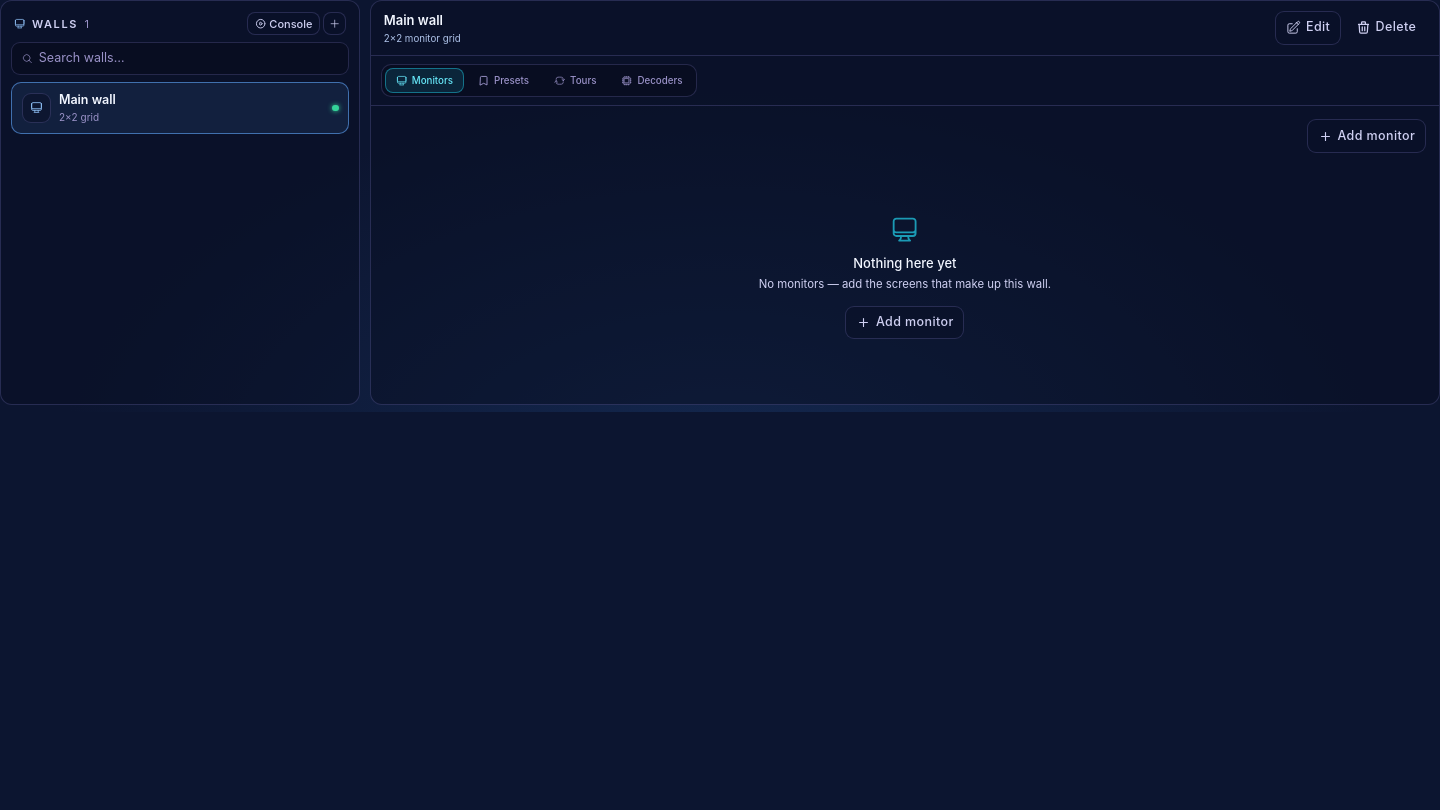
Scenario: deleting a wall › spells out that the monitors, presets and tours go with it
Click the button "Delete" at point(1386, 28), box [1346,12,1426,44]
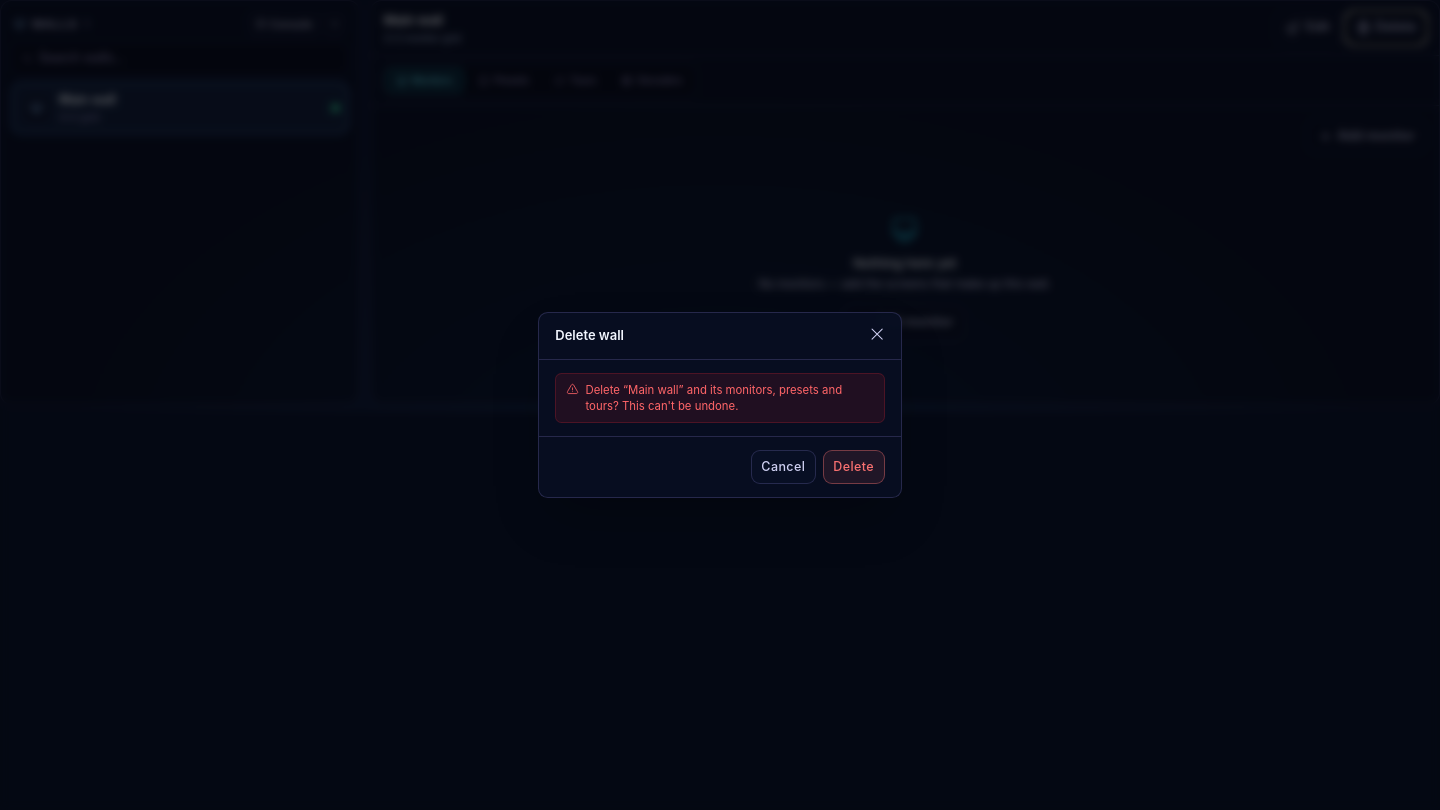
Result: the text "can't be undone" is shown at [586,383,842,413]
